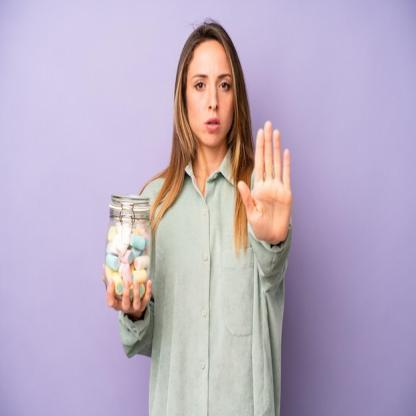stop: (237, 119, 292, 248)
